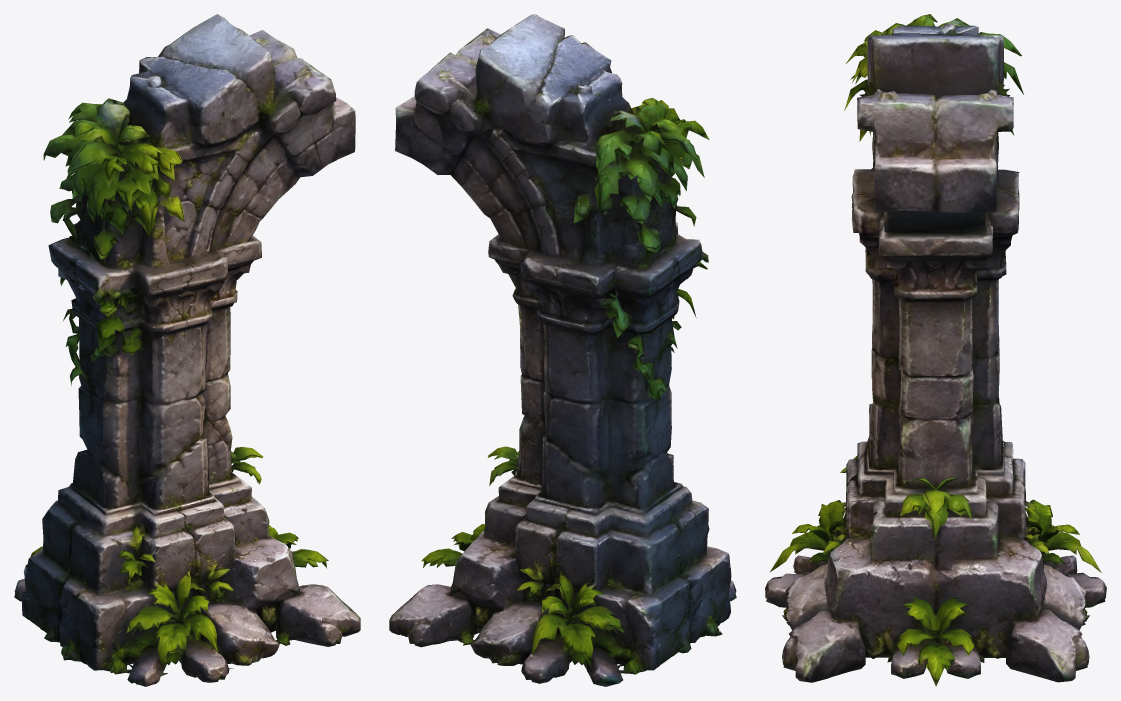
The model's file is gen_rubble.glb.
The picture shows the model from 3 angles, left to right: view 1: azimuth 30°, elevation 25°; view 2: azimuth 150°, elevation 25°; view 3: azimuth 270°, elevation 25°; orthographic projection. The views are drawn at different scales.
Visible parts, largest first — view 1: tripo_node_f6e86b07-ad37-48fd-aa39-ebc0641edc77; view 2: tripo_node_f6e86b07-ad37-48fd-aa39-ebc0641edc77; view 3: tripo_node_f6e86b07-ad37-48fd-aa39-ebc0641edc77.
Boxes of the visible parts, x1=… form: tripo_node_f6e86b07-ad37-48fd-aa39-ebc0641edc77: x1=14, y1=14, x2=360, y2=686; tripo_node_f6e86b07-ad37-48fd-aa39-ebc0641edc77: x1=389, y1=14, x2=736, y2=686; tripo_node_f6e86b07-ad37-48fd-aa39-ebc0641edc77: x1=765, y1=14, x2=1106, y2=686.
Bounding box in the file's own units: 0.5093 × 0.9787 × 0.4925.
Materials: 1 (1 with a texture image).
